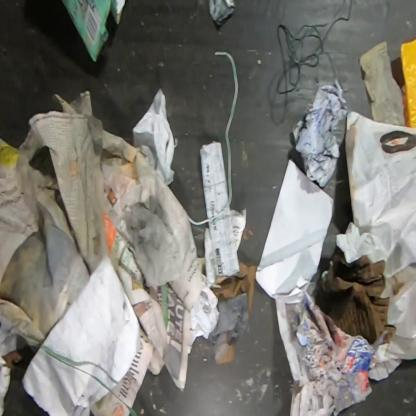cardboard: (314, 245, 396, 345), (62, 0, 127, 65)
